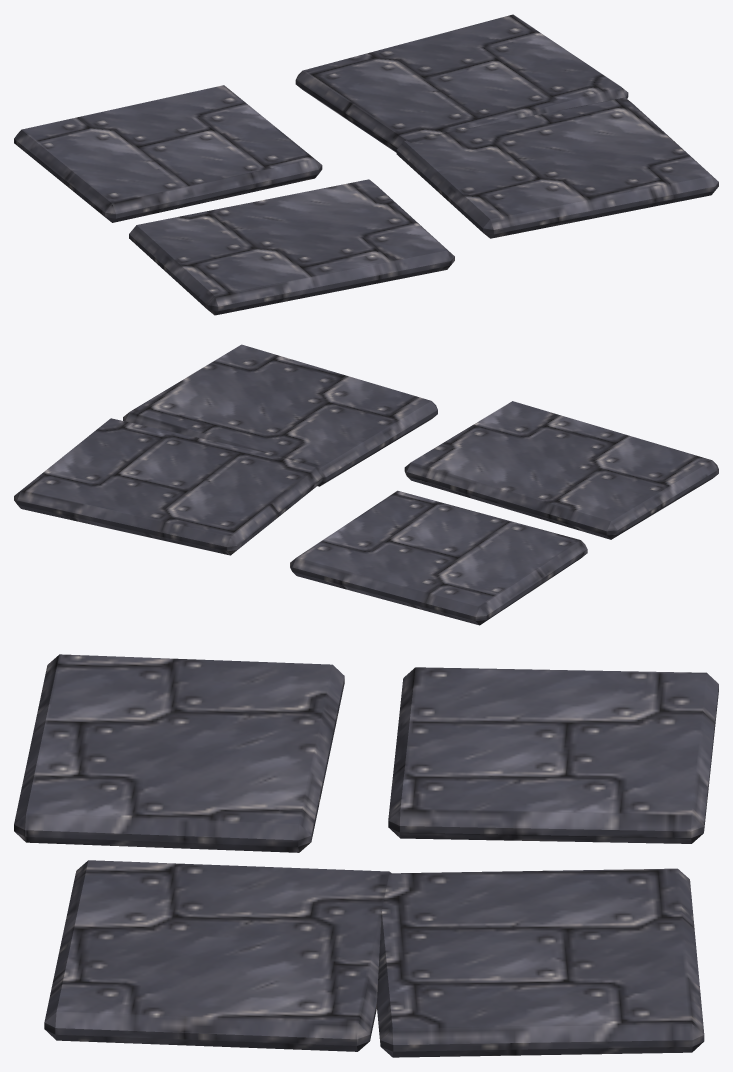
File: mapkit_flags_magma.fbx
The picture shows the model from 3 angles, top to bottom: view 1: azimuth 30°, elevation 25°; view 2: azimuth 150°, elevation 25°; view 3: azimuth 270°, elevation 25°; orthographic projection. The views are drawn at different scales.
Parts seen in each view (by area): view 1: Body; view 2: Body; view 3: Body.
Boxes of the visible parts, box(x1,y1,x2,y2) form: Body: box(14, 14, 718, 315); Body: box(14, 344, 718, 625); Body: box(14, 654, 718, 1057).
Bounding box in the file's own units: 374 × 13 × 290.
Materials: 1 (1 with a texture image).
